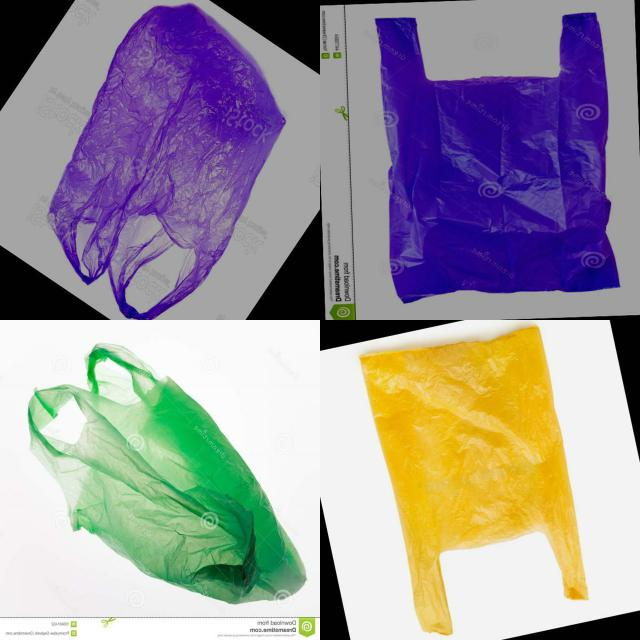Single-layer Plastic: (48, 4, 285, 319), (29, 344, 306, 604), (375, 12, 619, 302), (360, 326, 588, 635)
